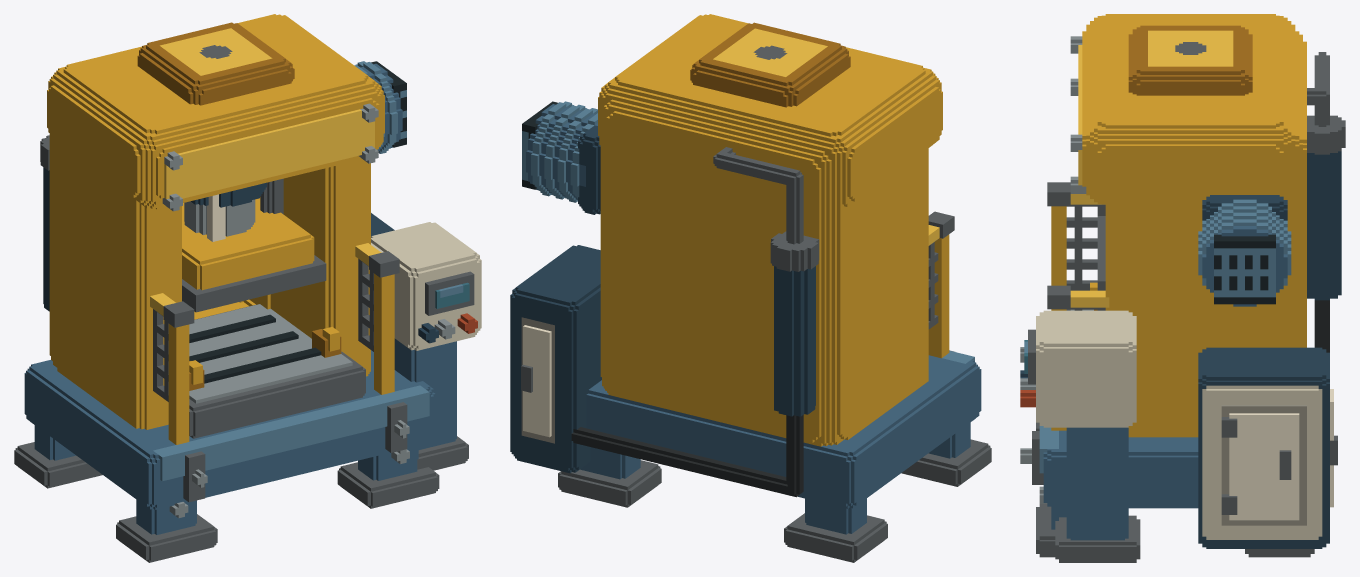
The model's file is production_machine.glb.
3 views of the same model, side by side, from view 1: azimuth 30°, elevation 25°; view 2: azimuth 150°, elevation 25°; view 3: azimuth 270°, elevation 25° (orthographic). The views are drawn at different scales.
Parts seen in each view (by area): view 1: production_machine; view 2: production_machine; view 3: production_machine.
Boxes of the visible parts, left/top/right/bottom form: production_machine: left=14, top=14, right=481, bottom=562; production_machine: left=510, top=14, right=991, bottom=562; production_machine: left=1020, top=14, right=1345, bottom=562.
Size of the model in its own units: 4.24 by 4.96 by 3.36.
